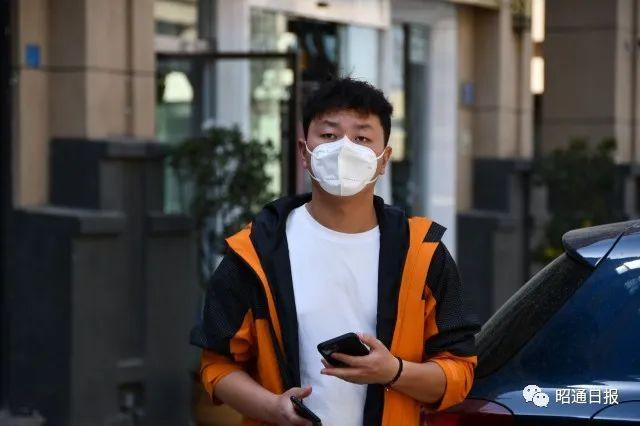mask: (305, 94, 392, 208)
